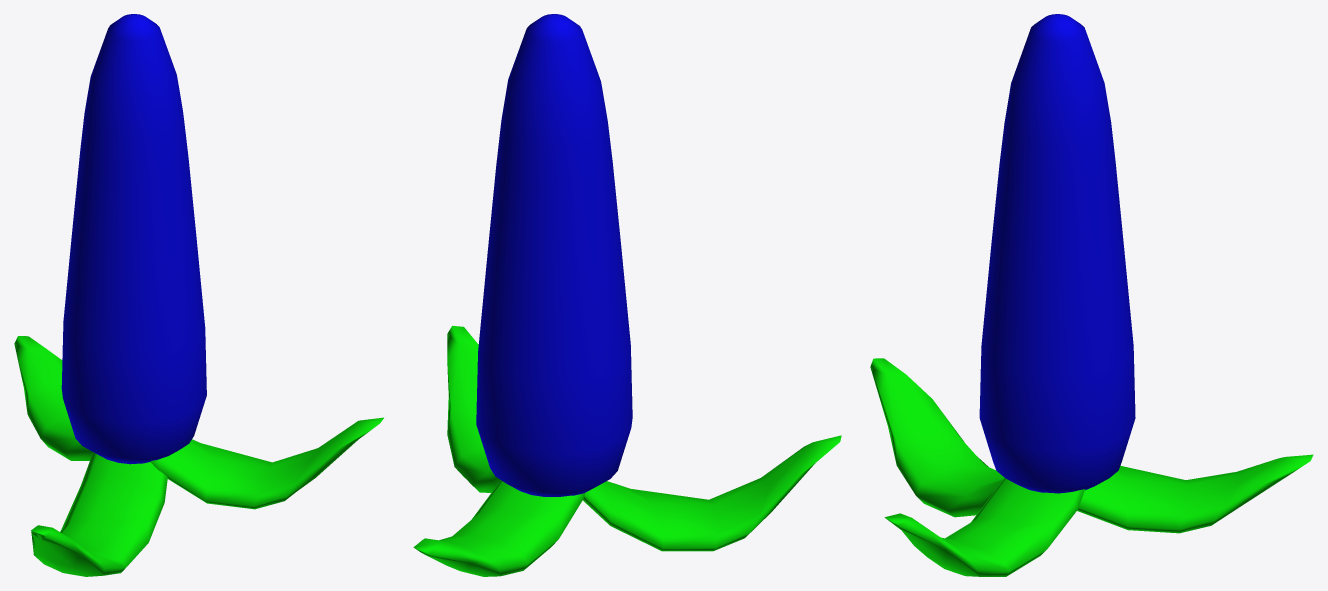
File: Carrot.fbx
The picture shows the model from 3 angles, left to right: view 1: azimuth 30°, elevation 25°; view 2: azimuth 150°, elevation 25°; view 3: azimuth 270°, elevation 25°; orthographic projection. The views are drawn at different scales.
Visible parts, largest first — view 1: Base, Leaf_3, Leaf_2, Leaf_1; view 2: Base, Leaf_3, Leaf_1, Leaf_2; view 3: Base, Leaf_3, Leaf_1, Leaf_2.
Part boxes in pixels (bbox=[...]): Base: bbox=[61, 14, 206, 464]; Leaf_3: bbox=[31, 452, 167, 576]; Leaf_2: bbox=[150, 417, 383, 509]; Leaf_1: bbox=[14, 336, 92, 460]; Base: bbox=[476, 14, 632, 496]; Leaf_3: bbox=[583, 435, 841, 551]; Leaf_1: bbox=[413, 481, 584, 576]; Leaf_2: bbox=[447, 325, 501, 492]; Base: bbox=[979, 14, 1135, 493]; Leaf_3: bbox=[870, 358, 1004, 517]; Leaf_1: bbox=[1056, 454, 1313, 533]; Leaf_2: bbox=[884, 477, 1085, 576].
Bounding box in the file's own units: 11.52 × 15.34 × 11.56.
